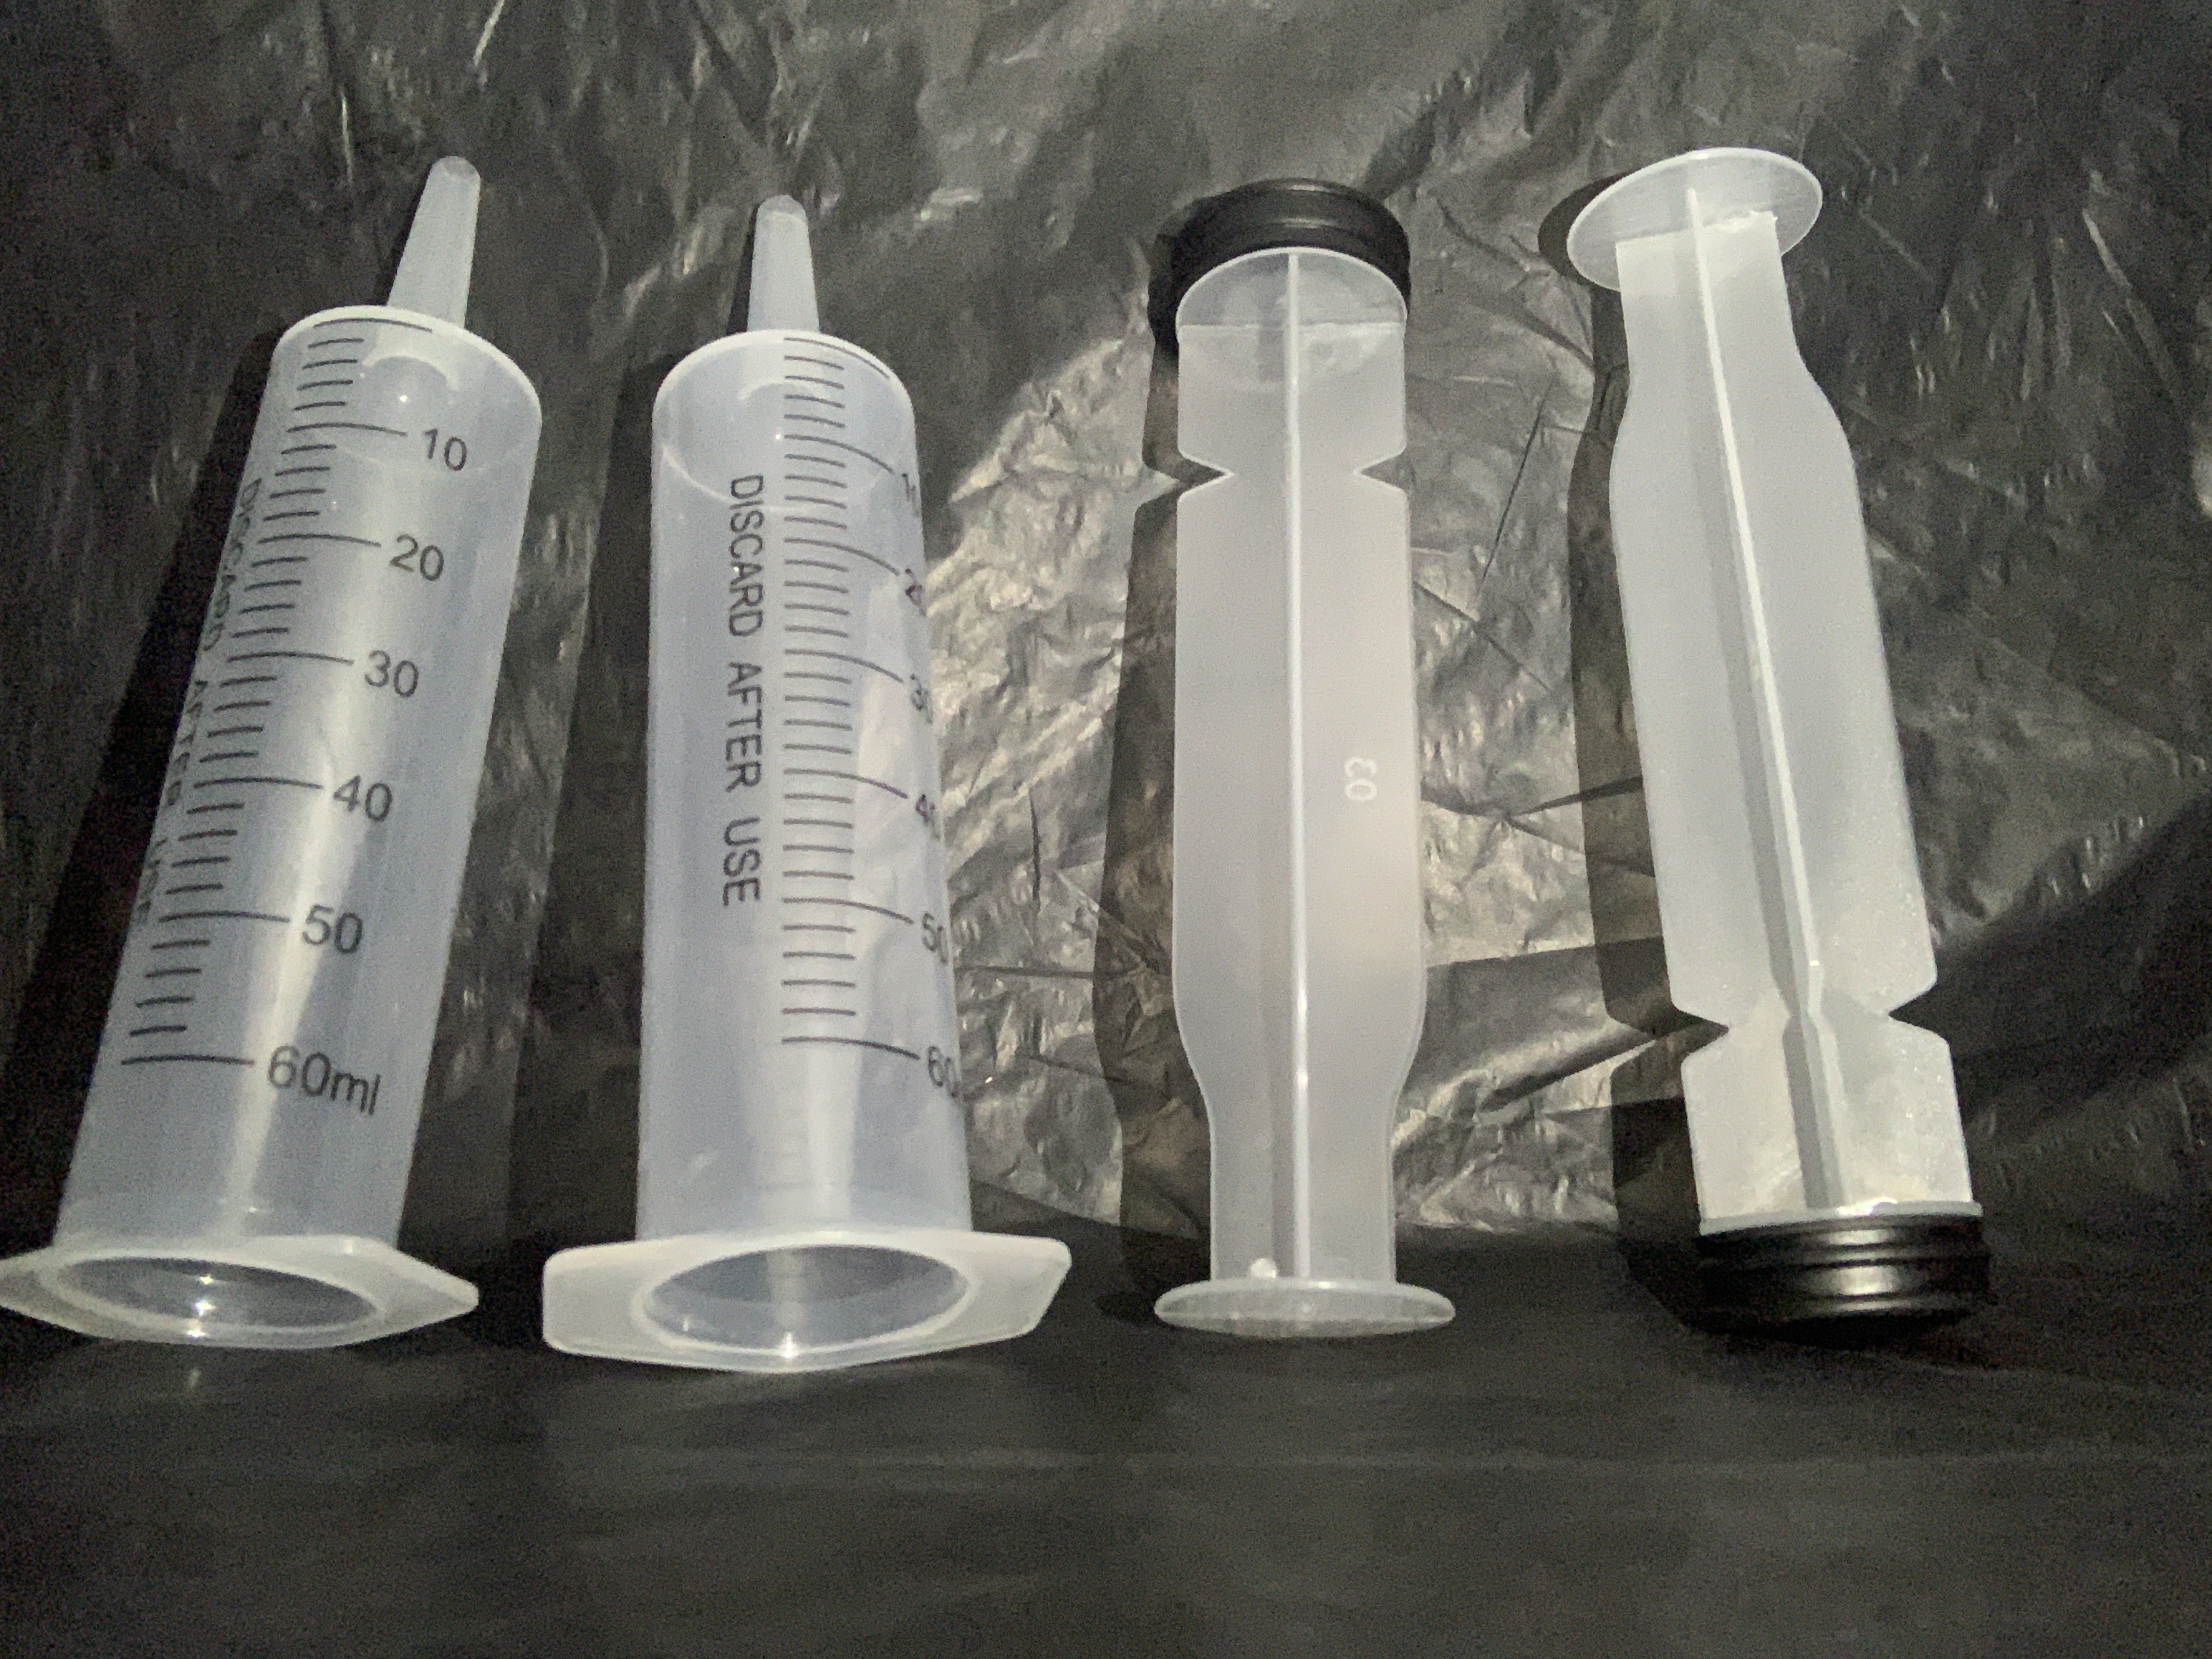plunger: (1552, 134, 2006, 1352), (1150, 169, 1460, 1349)
syringe: (529, 181, 1078, 1382), (9, 150, 535, 1356)
